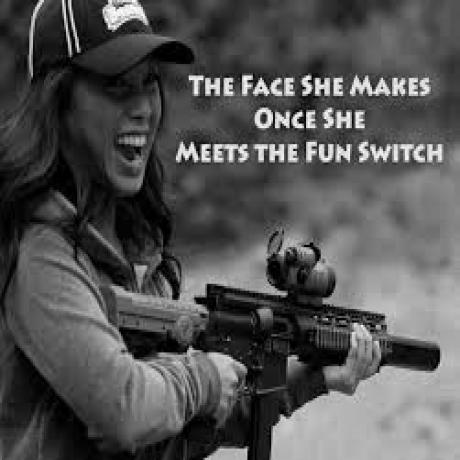Guns: (97, 234, 446, 452)
